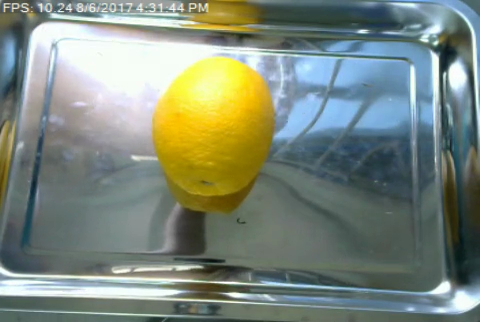Orange: (154, 55, 277, 195)
